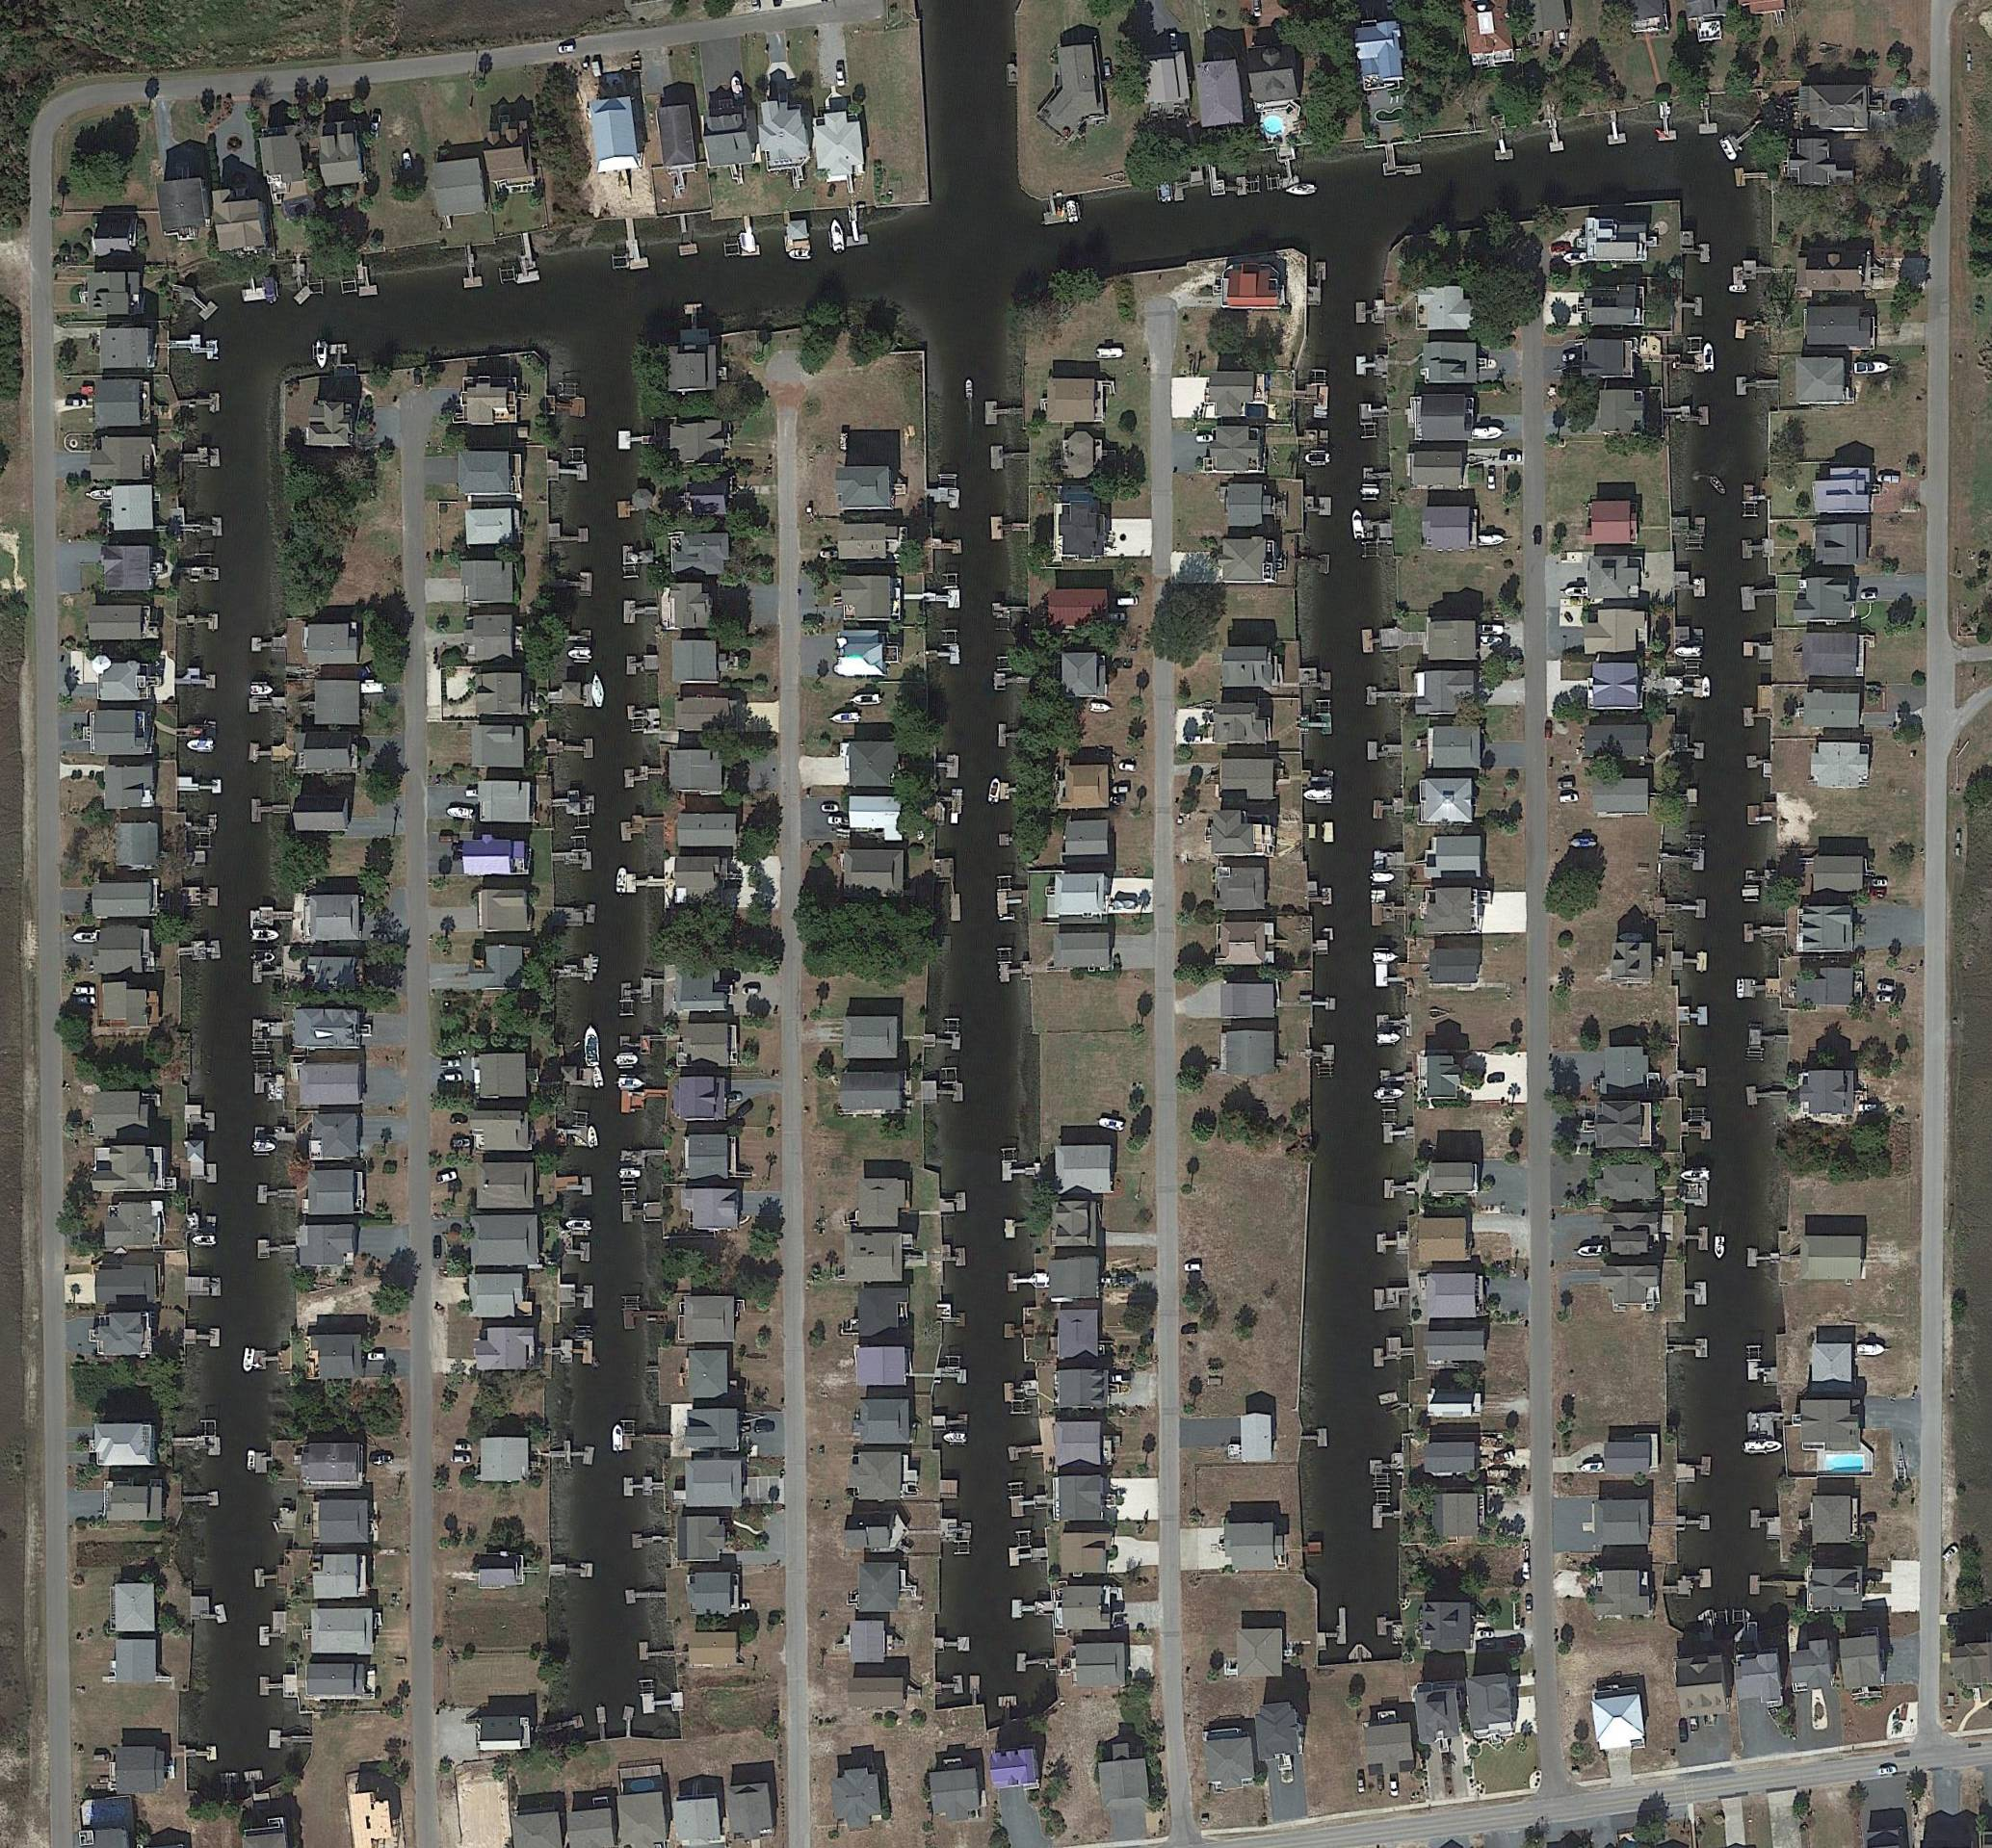harbor: (609, 222, 649, 272), (620, 976, 664, 1017), (509, 232, 541, 285), (553, 791, 596, 830), (623, 1420, 668, 1452), (1381, 144, 1422, 179), (642, 1679, 680, 1714), (1009, 1531, 1047, 1567), (170, 334, 220, 362), (623, 1295, 660, 1332), (1664, 1570, 1712, 1597), (553, 1440, 595, 1470), (185, 287, 220, 321), (1170, 169, 1206, 201), (783, 212, 811, 252), (619, 815, 663, 841), (1002, 1149, 1035, 1183), (1734, 260, 1774, 287), (1750, 1575, 1803, 1596), (1726, 121, 1760, 153), (621, 1090, 666, 1114), (843, 208, 870, 247), (930, 475, 959, 510), (193, 1596, 228, 1626), (1382, 1109, 1412, 1145), (1374, 1338, 1410, 1366), (1747, 1414, 1784, 1442), (557, 954, 594, 981), (628, 704, 661, 735), (997, 877, 1023, 916), (555, 572, 594, 597), (937, 1067, 963, 1105), (1009, 1483, 1035, 1519), (542, 1714, 585, 1736), (179, 939, 222, 961), (293, 259, 313, 305), (174, 1436, 221, 1456), (1665, 848, 1706, 872), (250, 908, 292, 930), (675, 216, 697, 257), (936, 1017, 963, 1051), (252, 798, 290, 822), (461, 247, 484, 288), (1742, 586, 1777, 611), (1040, 196, 1070, 226), (620, 1034, 667, 1054), (549, 460, 588, 483), (991, 516, 1028, 540), (991, 446, 1028, 470), (739, 217, 760, 258), (176, 666, 216, 689), (1363, 628, 1398, 653), (624, 766, 660, 790), (1308, 701, 1332, 737), (1747, 1085, 1788, 1106), (1668, 1339, 1709, 1360), (1310, 1045, 1335, 1079), (270, 1731, 311, 1751), (554, 851, 593, 872), (998, 949, 1022, 983), (1211, 176, 1248, 198), (565, 1231, 591, 1262), (985, 403, 1021, 426), (1605, 111, 1628, 146), (1744, 923, 1785, 943), (1667, 898, 1708, 919), (1737, 376, 1777, 396), (621, 1150, 664, 1169), (626, 873, 665, 895), (183, 447, 222, 468), (1735, 1609, 1759, 1643), (177, 776, 222, 794), (177, 721, 217, 742), (1276, 159, 1301, 191), (249, 743, 285, 766), (356, 262, 379, 298), (1373, 903, 1405, 927), (185, 517, 223, 537), (180, 393, 221, 412), (551, 523, 590, 543), (1376, 962, 1406, 988), (1375, 1288, 1409, 1311), (624, 1477, 664, 1497), (1750, 1029, 1788, 1050), (1657, 104, 1677, 142), (624, 601, 657, 624), (1370, 1453, 1402, 1476), (1677, 1456, 1713, 1477), (941, 1356, 967, 1385), (1743, 485, 1766, 519), (1697, 100, 1718, 135), (1302, 666, 1331, 691), (258, 1185, 294, 1206), (564, 737, 594, 761), (1494, 129, 1515, 162), (925, 589, 960, 609), (1375, 851, 1405, 873), (187, 1327, 221, 1347), (239, 276, 266, 301), (1297, 554, 1329, 575), (259, 1240, 296, 1259), (1374, 797, 1402, 820), (178, 614, 219, 631), (952, 1522, 972, 1554), (1735, 167, 1766, 188), (619, 430, 653, 450), (189, 1277, 223, 1296), (1374, 1507, 1401, 1531), (1367, 687, 1401, 706), (554, 1562, 593, 1578), (625, 1588, 665, 1604), (1360, 403, 1388, 426), (626, 655, 658, 675), (1017, 1653, 1049, 1674), (632, 1532, 668, 1549), (188, 813, 218, 834), (1680, 405, 1710, 427), (995, 672, 1028, 691), (640, 1641, 672, 1660), (552, 398, 585, 417), (1005, 1383, 1024, 1416), (1369, 741, 1402, 760), (1665, 790, 1699, 808), (623, 545, 655, 564), (252, 963, 281, 984), (221, 1772, 241, 1802), (939, 789, 963, 814), (249, 696, 284, 714), (1313, 928, 1335, 955), (1743, 707, 1770, 728), (1748, 1248, 1776, 1269), (1380, 1069, 1408, 1090), (1748, 1360, 1777, 1380), (1698, 1609, 1717, 1641), (1377, 1014, 1406, 1033), (618, 501, 650, 518), (1301, 1427, 1327, 1448), (1750, 1510, 1780, 1528), (190, 1216, 218, 1236), (1304, 497, 1332, 516), (993, 603, 1026, 619), (1547, 120, 1563, 153), (936, 755, 959, 778), (943, 1244, 966, 1267), (1687, 1227, 1709, 1251), (1687, 1183, 1708, 1208), (566, 1068, 595, 1086), (1680, 353, 1706, 374), (1384, 1180, 1411, 1199), (1364, 518, 1391, 537), (184, 1492, 220, 1506), (1687, 1282, 1708, 1306), (567, 1177, 592, 1197), (998, 1697, 1018, 1722), (192, 1164, 218, 1184), (245, 1770, 264, 1796), (188, 1746, 217, 1763), (1009, 1273, 1035, 1292), (1684, 245, 1711, 263), (938, 643, 960, 665), (999, 724, 1020, 747), (1684, 1068, 1707, 1089), (1349, 1644, 1373, 1664), (1684, 951, 1708, 972), (946, 1414, 970, 1434), (574, 1340, 593, 1365), (949, 883, 961, 922), (260, 1627, 285, 1646), (565, 630, 591, 648), (574, 902, 596, 924), (254, 1350, 277, 1370), (1377, 1616, 1401, 1636), (1678, 742, 1705, 759), (1005, 1218, 1028, 1238), (934, 539, 962, 556), (595, 1706, 609, 1740), (1364, 468, 1390, 485), (566, 1127, 589, 1147), (328, 344, 349, 366), (1689, 1121, 1712, 1140), (1012, 1600, 1035, 1619), (1311, 770, 1334, 790), (260, 1679, 284, 1697), (1748, 807, 1772, 825), (685, 304, 702, 329), (1298, 429, 1319, 451), (1743, 979, 1766, 999), (1378, 1233, 1398, 1255), (576, 1286, 594, 1309), (1309, 888, 1333, 905), (1686, 1514, 1711, 1530), (255, 1569, 275, 1589), (942, 1676, 963, 1695), (255, 1076, 277, 1094), (1356, 302, 1375, 325), (622, 1705, 635, 1737), (623, 1204, 643, 1223), (1683, 679, 1703, 698), (1743, 540, 1763, 560), (250, 637, 274, 653), (1009, 1445, 1033, 1462), (1744, 642, 1770, 657), (1684, 297, 1703, 316), (253, 1019, 272, 1039), (1691, 1006, 1709, 1027), (1689, 517, 1707, 537), (1337, 1607, 1347, 1645), (1737, 321, 1755, 340), (1356, 357, 1375, 377), (1690, 579, 1707, 599), (946, 1637, 970, 1652), (201, 888, 219, 907), (1747, 755, 1770, 769), (1314, 997, 1337, 1011), (255, 1127, 275, 1143), (256, 1453, 272, 1474), (970, 1676, 981, 1705), (1316, 261, 1327, 288), (1745, 871, 1765, 886), (1005, 1324, 1024, 1340), (201, 1112, 216, 1132), (1302, 1543, 1323, 1557), (1001, 783, 1017, 799)
